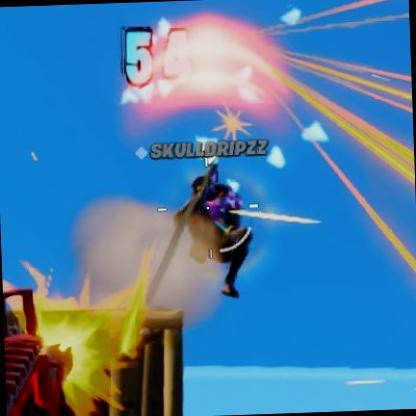person: (182, 179, 236, 295)
